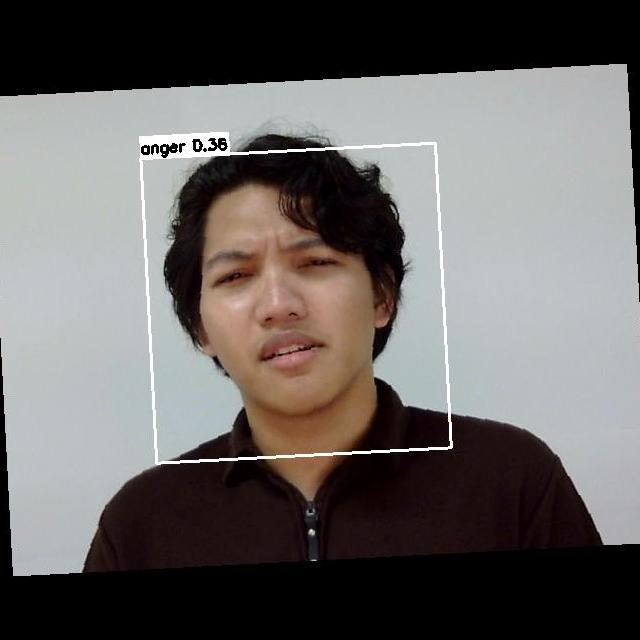Sad: (182, 218, 405, 401)
